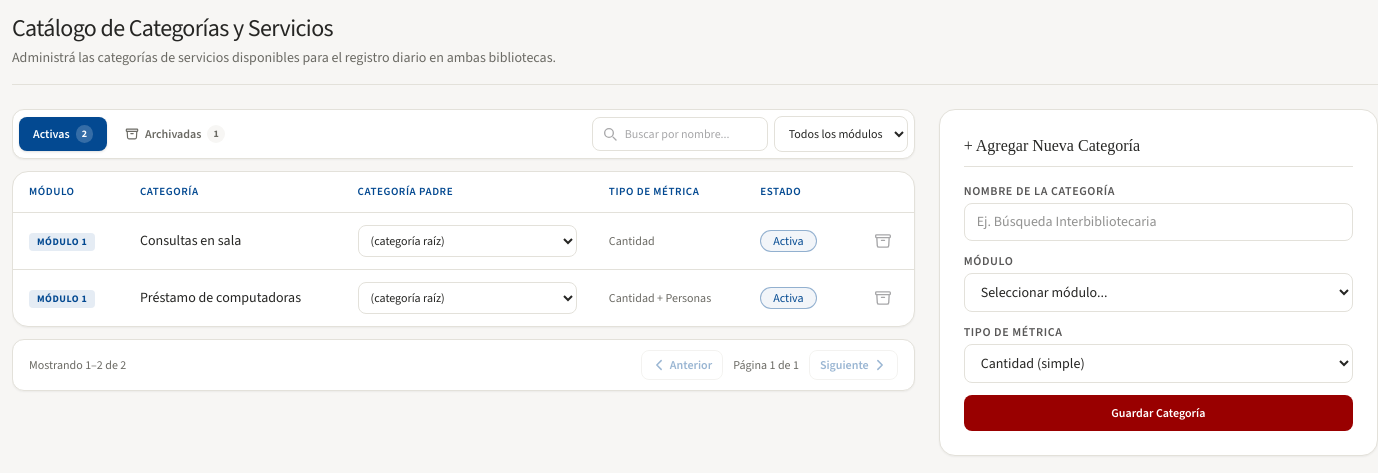
Test: CategoriesView › filtra por nombre
The image size is (1378, 473).
Expected: the text "Consultas en sala" is shown, [140,231,241,250]
Type "préstamo" into the field named "Filtrar por nombre" at x=680, y=134, box [592,117,768,151]
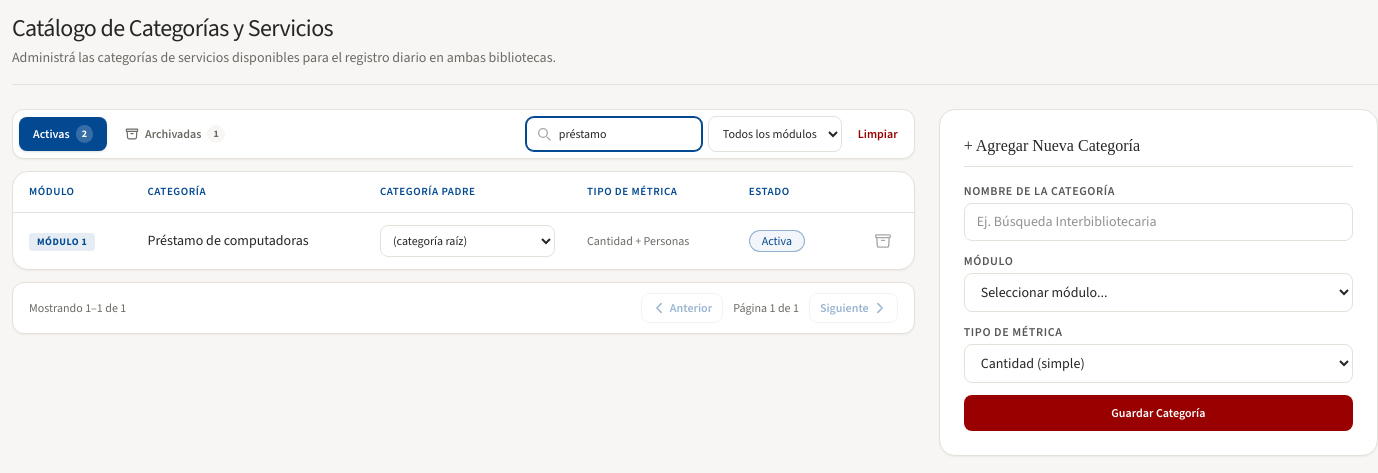
Expected: the text "Préstamo de computadoras" is shown, [148,231,309,250]
Now the text "Consultas en sala" is gone
Now the text "Mostrando 1–1 de 1" is shown, box [29,300,126,316]
